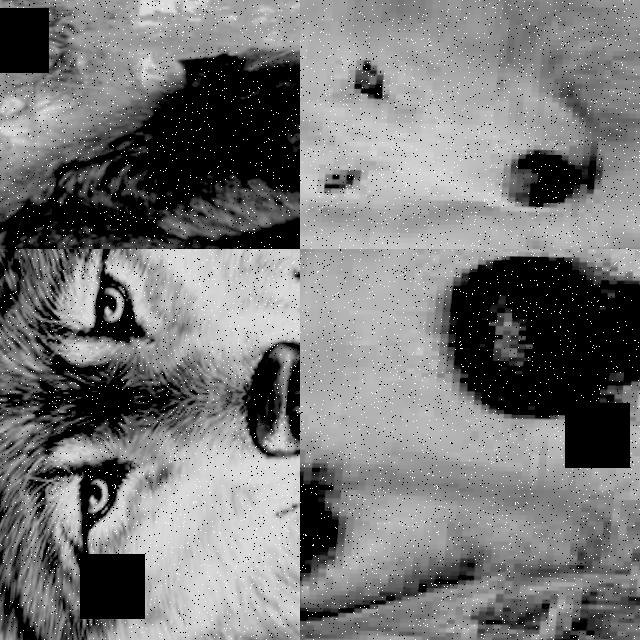dog: (300, 249, 640, 640)
wolf: (300, 0, 640, 249), (0, 6, 300, 249), (300, 0, 640, 60)
